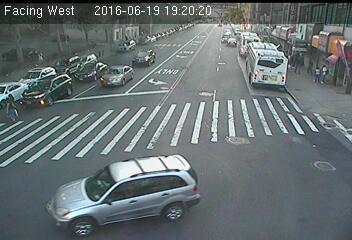neg: (81, 28, 93, 44), (54, 36, 66, 51)
pos: (291, 51, 309, 75), (317, 61, 332, 80), (310, 66, 323, 84)
